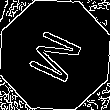M_SE: (22, 24, 88, 86)
